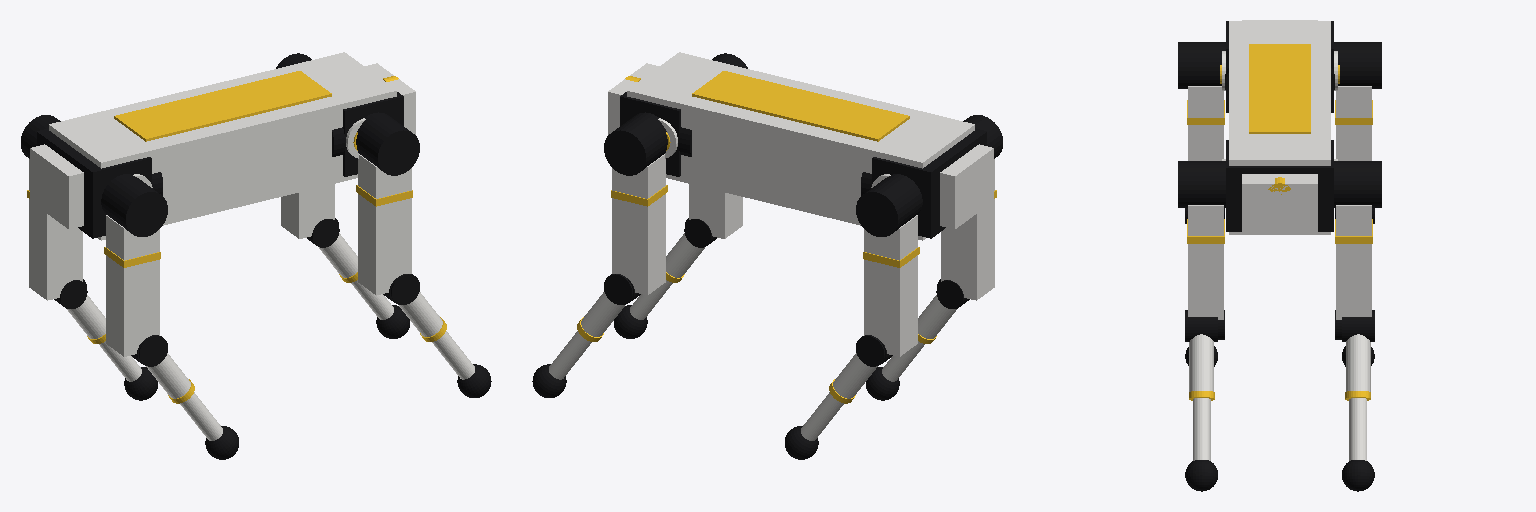
robot.urdf — omniquad_ghost:
<?xml version='1.0' encoding='utf-8'?>
<robot name="omniquad_ghost">
    <link name="body">
		<visual>
			<origin xyz="0.0064 0 -0.0039" rpy="0 0 0" />
			<geometry>
				<box size="0.700 0.215 0.176" />
			</geometry>
			<material name="omnisim_shell">
				<color rgba="0.898 0.894 0.882 1.0" />
				<omnisim roughness="0.42" metalness="0.0" />
			</material>
		</visual>
		<visual>
			<origin xyz="0.2980 0 -0.0039" rpy="0 0 0" />
			<geometry>
				<box size="0.140 0.230 0.150" />
			</geometry>
			<material name="omnisim_joint">
				<color rgba="0.129 0.129 0.137 1.0" />
				<omnisim roughness="0.28" metalness="0.85" />
			</material>
		</visual>
		<visual>
			<origin xyz="-0.2980 0 -0.0039" rpy="0 0 0" />
			<geometry>
				<box size="0.140 0.230 0.150" />
			</geometry>
			<material name="omnisim_joint">
				<color rgba="0.129 0.129 0.137 1.0" />
				<omnisim roughness="0.28" metalness="0.85" />
			</material>
		</visual>
		<visual>
			<origin xyz="0.3720 0 -0.0039" rpy="0 0 0" />
			<geometry>
				<box size="0.090 0.160 0.120" />
			</geometry>
			<material name="omnisim_shell">
				<color rgba="0.898 0.894 0.882 1.0" />
				<omnisim roughness="0.42" metalness="0.0" />
			</material>
		</visual>
		<visual>
			<origin xyz="-0.3590 0 -0.0039" rpy="0 0 0" />
			<geometry>
				<box size="0.090 0.160 0.120" />
			</geometry>
			<material name="omnisim_shell">
				<color rgba="0.898 0.894 0.882 1.0" />
				<omnisim roughness="0.42" metalness="0.0" />
			</material>
		</visual>
		<visual>
			<origin xyz="0.0064 0 0.0830" rpy="0 0 0" />
			<geometry>
				<box size="0.440 0.130 0.014" />
			</geometry>
			<material name="omnisim_accent">
				<color rgba="0.965 0.780 0.204 1.0" />
				<omnisim roughness="0.35" metalness="0.2" />
			</material>
		</visual>
		<visual>
			<origin xyz="0.4020 0 0.0300" rpy="0 1.5708 0" />
			<geometry>
				<cylinder radius="0.028" length="0.03" />
			</geometry>
			<material name="omnisim_accent">
				<color rgba="0.965 0.780 0.204 1.0" />
				<omnisim roughness="0.35" metalness="0.2" />
			</material>
		</visual>
	</link>

    <link name="base_link" />
    <joint name="base_link_joint" type="fixed">
        <origin xyz="0 0 0" rpy="0 0 0" />
        <parent link="base_link" />
        <child link="body" />
    </joint>

    <link name="front_rail" />
    <joint name="front_rail_joint" type="fixed">
        <origin xyz="0.223 0 0.0805" rpy="0 0 0" />
        <parent link="body" />
        <child link="front_rail" />
    </joint>

    <link name="real_front_rail" />
    <joint name="real_front_rail_joint" type="fixed">
        <origin xyz="0.2075 0 0.0805" rpy="0 0 0" />
        <parent link="body" />
        <child link="real_front_rail" />
    </joint>

    <link name="rear_rail" />
    <joint name="rear_rail_joint" type="fixed">
        <origin xyz="-0.223 0 0.0805" rpy="0 0 0" />
        <parent link="body" />
        <child link="rear_rail" />
    </joint>

    <link name="real_rear_rail" />
    <joint name="real_rear_rail_joint" type="fixed">
        <origin xyz="-0.415 0 0" rpy="0 0 0" />
        <parent link="real_front_rail" />
        <child link="real_rear_rail" />
    </joint>

    <link name="front_left_hip">
		<visual>
			<origin xyz="-0.0242 +0.0060 0.0000" rpy="0 1.5708 0" />
			<geometry>
				<cylinder radius="0.056" length="0.144" />
			</geometry>
			<material name="omnisim_joint">
				<color rgba="0.129 0.129 0.137 1.0" />
				<omnisim roughness="0.28" metalness="0.85" />
			</material>
		</visual>
		<visual>
			<origin xyz="-0.0242 +0.0400 0.0000" rpy="1.5708 0 0" />
			<geometry>
				<cylinder radius="0.044" length="0.056" />
			</geometry>
			<material name="omnisim_shell">
				<color rgba="0.898 0.894 0.882 1.0" />
				<omnisim roughness="0.42" metalness="0.0" />
			</material>
		</visual>
		<visual>
			<origin xyz="-0.0242 +0.0660 0.0000" rpy="1.5708 0 0" />
			<geometry>
				<cylinder radius="0.03" length="0.012" />
			</geometry>
			<material name="omnisim_accent">
				<color rgba="0.965 0.780 0.204 1.0" />
				<omnisim roughness="0.35" metalness="0.2" />
			</material>
		</visual>
	</link>
    <joint name="front_left_hip_x" type="revolute">
        <origin xyz="0.29785 0.05500 0.00000" rpy="0 0 0" />
        <axis xyz="1 0 0" />
        <parent link="body" />
        <child link="front_left_hip" />
        <dynamics damping="0.05" />
        
        <limit effort="80" velocity="20" lower="-1.50" upper="1.50" />
        <rest>0.30</rest>
    </joint>
    <link name="front_left_upper_leg">
		<visual>
			<origin xyz="0.0000 -0.0084 0.0000" rpy="1.5708 0 0" />
			<geometry>
				<cylinder radius="0.05" length="0.116" />
			</geometry>
			<material name="omnisim_joint">
				<color rgba="0.129 0.129 0.137 1.0" />
				<omnisim roughness="0.28" metalness="0.85" />
			</material>
		</visual>
		<visual>
			<origin xyz="0.0000 -0.0084 -0.1750" rpy="0 0 0" />
			<geometry>
				<box size="0.084 0.076 0.290" />
			</geometry>
			<material name="omnisim_shell">
				<color rgba="0.898 0.894 0.882 1.0" />
				<omnisim roughness="0.42" metalness="0.0" />
			</material>
		</visual>
		<visual>
			<origin xyz="0.0000 -0.0084 -0.1100" rpy="0 0 0" />
			<geometry>
				<box size="0.088 0.080 0.016" />
			</geometry>
			<material name="omnisim_accent">
				<color rgba="0.965 0.780 0.204 1.0" />
				<omnisim roughness="0.35" metalness="0.2" />
			</material>
		</visual>
		<visual>
			<origin xyz="0.0200 -0.0084 -0.3205" rpy="1.5708 0 0" />
			<geometry>
				<cylinder radius="0.032" length="0.08" />
			</geometry>
			<material name="omnisim_joint">
				<color rgba="0.129 0.129 0.137 1.0" />
				<omnisim roughness="0.28" metalness="0.85" />
			</material>
		</visual>
	</link>
    <joint name="front_left_hip_y" type="revolute">
        <origin xyz="0.0 0.110945 0.0" rpy="0 0 0" />
        <axis xyz="0 1 0" />
        <parent link="front_left_hip" />
        <child link="front_left_upper_leg" />
        <dynamics damping="0.05" />
        
        <limit effort="80" velocity="20" lower="-0.50" upper="3.20" />
        
        <rest>0.30</rest>
    </joint>
    <link name="front_left_lower_leg">
		<visual>
			<origin xyz="0 0 0" rpy="1.5708 0 0" />
			<geometry>
				<cylinder radius="0.034" length="0.07" />
			</geometry>
			<material name="omnisim_joint">
				<color rgba="0.129 0.129 0.137 1.0" />
				<omnisim roughness="0.28" metalness="0.85" />
			</material>
		</visual>
		<visual>
			<origin xyz="0 0 -0.0750" rpy="0 0 0" />
			<geometry>
				<cylinder radius="0.026" length="0.15" />
			</geometry>
			<material name="omnisim_shell">
				<color rgba="0.898 0.894 0.882 1.0" />
				<omnisim roughness="0.42" metalness="0.0" />
			</material>
		</visual>
		<visual>
			<origin xyz="0 0 -0.1500" rpy="0 0 0" />
			<geometry>
				<cylinder radius="0.028" length="0.014" />
			</geometry>
			<material name="omnisim_accent">
				<color rgba="0.965 0.780 0.204 1.0" />
				<omnisim roughness="0.35" metalness="0.2" />
			</material>
		</visual>
		<visual>
			<origin xyz="0 0 -0.2350" rpy="0 0 0" />
			<geometry>
				<cylinder radius="0.019" length="0.17" />
			</geometry>
			<material name="omnisim_shell">
				<color rgba="0.898 0.894 0.882 1.0" />
				<omnisim roughness="0.42" metalness="0.0" />
			</material>
		</visual>
		<visual>
			<origin xyz="0 0 -0.3200" rpy="0 0 0" />
			<geometry>
				<sphere radius="0.035" />
			</geometry>
			<material name="omnisim_joint">
				<color rgba="0.129 0.129 0.137 1.0" />
				<omnisim roughness="0.28" metalness="0.85" />
			</material>
		</visual>
	</link>
    <joint name="front_left_knee" type="revolute">
        <origin xyz="0.025 0.000 -0.3205" rpy="0 0 0" />
        <axis xyz="0 1 0" />
        <parent link="front_left_upper_leg" />
        <child link="front_left_lower_leg" />
        <dynamics damping="0.05" />
        <limit effort="80" velocity="20" lower="-1.20" upper="-0.01" />
    </joint>
    <link name="front_right_hip">
		<visual>
			<origin xyz="-0.0242 -0.0060 0.0000" rpy="0 1.5708 0" />
			<geometry>
				<cylinder radius="0.056" length="0.144" />
			</geometry>
			<material name="omnisim_joint">
				<color rgba="0.129 0.129 0.137 1.0" />
				<omnisim roughness="0.28" metalness="0.85" />
			</material>
		</visual>
		<visual>
			<origin xyz="-0.0242 -0.0400 0.0000" rpy="1.5708 0 0" />
			<geometry>
				<cylinder radius="0.044" length="0.056" />
			</geometry>
			<material name="omnisim_shell">
				<color rgba="0.898 0.894 0.882 1.0" />
				<omnisim roughness="0.42" metalness="0.0" />
			</material>
		</visual>
		<visual>
			<origin xyz="-0.0242 -0.0660 0.0000" rpy="1.5708 0 0" />
			<geometry>
				<cylinder radius="0.03" length="0.012" />
			</geometry>
			<material name="omnisim_accent">
				<color rgba="0.965 0.780 0.204 1.0" />
				<omnisim roughness="0.35" metalness="0.2" />
			</material>
		</visual>
	</link>
    <joint name="front_right_hip_x" type="revolute">
        <origin xyz="0.29785 -0.05500 0.00000" rpy="0 0 0" />
        <axis xyz="1 0 0" />
        <parent link="body" />
        <child link="front_right_hip" />
        <dynamics damping="0.05" />
        
        <limit effort="80" velocity="20" lower="-1.50" upper="1.50" />
        <rest>-0.30</rest>
    </joint>
    <link name="front_right_upper_leg">
		<visual>
			<origin xyz="0.0000 +0.0084 0.0000" rpy="1.5708 0 0" />
			<geometry>
				<cylinder radius="0.05" length="0.116" />
			</geometry>
			<material name="omnisim_joint">
				<color rgba="0.129 0.129 0.137 1.0" />
				<omnisim roughness="0.28" metalness="0.85" />
			</material>
		</visual>
		<visual>
			<origin xyz="0.0000 +0.0084 -0.1750" rpy="0 0 0" />
			<geometry>
				<box size="0.084 0.076 0.290" />
			</geometry>
			<material name="omnisim_shell">
				<color rgba="0.898 0.894 0.882 1.0" />
				<omnisim roughness="0.42" metalness="0.0" />
			</material>
		</visual>
		<visual>
			<origin xyz="0.0000 +0.0084 -0.1100" rpy="0 0 0" />
			<geometry>
				<box size="0.088 0.080 0.016" />
			</geometry>
			<material name="omnisim_accent">
				<color rgba="0.965 0.780 0.204 1.0" />
				<omnisim roughness="0.35" metalness="0.2" />
			</material>
		</visual>
		<visual>
			<origin xyz="0.0200 +0.0084 -0.3205" rpy="1.5708 0 0" />
			<geometry>
				<cylinder radius="0.032" length="0.08" />
			</geometry>
			<material name="omnisim_joint">
				<color rgba="0.129 0.129 0.137 1.0" />
				<omnisim roughness="0.28" metalness="0.85" />
			</material>
		</visual>
	</link>
    <joint name="front_right_hip_y" type="revolute">
        <origin xyz="0.0 -0.110945 0.0" rpy="0 0 0" />
        <axis xyz="0 1 0" />
        <parent link="front_right_hip" />
        <child link="front_right_upper_leg" />
        <dynamics damping="0.05" />
        
        <limit effort="80" velocity="20" lower="-0.50" upper="3.20" />
        <rest>0.30</rest>
    </joint>
    <link name="front_right_lower_leg">
		<visual>
			<origin xyz="0 0 0" rpy="1.5708 0 0" />
			<geometry>
				<cylinder radius="0.034" length="0.07" />
			</geometry>
			<material name="omnisim_joint">
				<color rgba="0.129 0.129 0.137 1.0" />
				<omnisim roughness="0.28" metalness="0.85" />
			</material>
		</visual>
		<visual>
			<origin xyz="0 0 -0.0750" rpy="0 0 0" />
			<geometry>
				<cylinder radius="0.026" length="0.15" />
			</geometry>
			<material name="omnisim_shell">
				<color rgba="0.898 0.894 0.882 1.0" />
				<omnisim roughness="0.42" metalness="0.0" />
			</material>
		</visual>
		<visual>
			<origin xyz="0 0 -0.1500" rpy="0 0 0" />
			<geometry>
				<cylinder radius="0.028" length="0.014" />
			</geometry>
			<material name="omnisim_accent">
				<color rgba="0.965 0.780 0.204 1.0" />
				<omnisim roughness="0.35" metalness="0.2" />
			</material>
		</visual>
		<visual>
			<origin xyz="0 0 -0.2350" rpy="0 0 0" />
			<geometry>
				<cylinder radius="0.019" length="0.17" />
			</geometry>
			<material name="omnisim_shell">
				<color rgba="0.898 0.894 0.882 1.0" />
				<omnisim roughness="0.42" metalness="0.0" />
			</material>
		</visual>
		<visual>
			<origin xyz="0 0 -0.3200" rpy="0 0 0" />
			<geometry>
				<sphere radius="0.035" />
			</geometry>
			<material name="omnisim_joint">
				<color rgba="0.129 0.129 0.137 1.0" />
				<omnisim roughness="0.28" metalness="0.85" />
			</material>
		</visual>
	</link>
    <joint name="front_right_knee" type="revolute">
        <origin xyz="0.025 0.000 -0.3205" rpy="0 0 0" />
        <axis xyz="0 1 0" />
        <parent link="front_right_upper_leg" />
        <child link="front_right_lower_leg" />
        <dynamics damping="0.05" />
        <limit effort="80" velocity="20" lower="-1.20" upper="-0.01" />
    </joint>
    <link name="rear_left_hip">
		<visual>
			<origin xyz="+0.0240 +0.0060 0.0000" rpy="0 1.5708 0" />
			<geometry>
				<cylinder radius="0.056" length="0.144" />
			</geometry>
			<material name="omnisim_joint">
				<color rgba="0.129 0.129 0.137 1.0" />
				<omnisim roughness="0.28" metalness="0.85" />
			</material>
		</visual>
		<visual>
			<origin xyz="+0.0240 +0.0400 0.0000" rpy="1.5708 0 0" />
			<geometry>
				<cylinder radius="0.044" length="0.056" />
			</geometry>
			<material name="omnisim_shell">
				<color rgba="0.898 0.894 0.882 1.0" />
				<omnisim roughness="0.42" metalness="0.0" />
			</material>
		</visual>
		<visual>
			<origin xyz="+0.0240 +0.0660 0.0000" rpy="1.5708 0 0" />
			<geometry>
				<cylinder radius="0.03" length="0.012" />
			</geometry>
			<material name="omnisim_accent">
				<color rgba="0.965 0.780 0.204 1.0" />
				<omnisim roughness="0.35" metalness="0.2" />
			</material>
		</visual>
	</link>
    <joint name="rear_left_hip_x" type="revolute">
        <origin xyz="-0.29785 0.05500 0.00000" rpy="0 0 0" />
        <axis xyz="1 0 0" />
        <parent link="body" />
        <child link="rear_left_hip" />
        <dynamics damping="0.05" />
        
        <limit effort="80" velocity="20" lower="-1.50" upper="1.50" />
        <rest>0.30</rest>
    </joint>
    <link name="rear_left_upper_leg">
		<visual>
			<origin xyz="0.0000 -0.0084 0.0000" rpy="1.5708 0 0" />
			<geometry>
				<cylinder radius="0.05" length="0.116" />
			</geometry>
			<material name="omnisim_joint">
				<color rgba="0.129 0.129 0.137 1.0" />
				<omnisim roughness="0.28" metalness="0.85" />
			</material>
		</visual>
		<visual>
			<origin xyz="0.0000 -0.0084 -0.1750" rpy="0 0 0" />
			<geometry>
				<box size="0.084 0.076 0.290" />
			</geometry>
			<material name="omnisim_shell">
				<color rgba="0.898 0.894 0.882 1.0" />
				<omnisim roughness="0.42" metalness="0.0" />
			</material>
		</visual>
		<visual>
			<origin xyz="0.0000 -0.0084 -0.1100" rpy="0 0 0" />
			<geometry>
				<box size="0.088 0.080 0.016" />
			</geometry>
			<material name="omnisim_accent">
				<color rgba="0.965 0.780 0.204 1.0" />
				<omnisim roughness="0.35" metalness="0.2" />
			</material>
		</visual>
		<visual>
			<origin xyz="0.0200 -0.0084 -0.3205" rpy="1.5708 0 0" />
			<geometry>
				<cylinder radius="0.032" length="0.08" />
			</geometry>
			<material name="omnisim_joint">
				<color rgba="0.129 0.129 0.137 1.0" />
				<omnisim roughness="0.28" metalness="0.85" />
			</material>
		</visual>
	</link>
    <joint name="rear_left_hip_y" type="revolute">
        <origin xyz="0.0 0.110945 0.0" rpy="0 0 0" />
        <axis xyz="0 1 0" />
        <parent link="rear_left_hip" />
        <child link="rear_left_upper_leg" />
        <dynamics damping="0.05" />
        
        <limit effort="80" velocity="20" lower="-0.50" upper="3.20" />
        <rest>0.30</rest>
    </joint>
    <link name="rear_left_lower_leg">
		<visual>
			<origin xyz="0 0 0" rpy="1.5708 0 0" />
			<geometry>
				<cylinder radius="0.034" length="0.07" />
			</geometry>
			<material name="omnisim_joint">
				<color rgba="0.129 0.129 0.137 1.0" />
				<omnisim roughness="0.28" metalness="0.85" />
			</material>
		</visual>
		<visual>
			<origin xyz="0 0 -0.0750" rpy="0 0 0" />
			<geometry>
				<cylinder radius="0.026" length="0.15" />
			</geometry>
			<material name="omnisim_shell">
				<color rgba="0.898 0.894 0.882 1.0" />
				<omnisim roughness="0.42" metalness="0.0" />
			</material>
		</visual>
		<visual>
			<origin xyz="0 0 -0.1500" rpy="0 0 0" />
			<geometry>
				<cylinder radius="0.028" length="0.014" />
			</geometry>
			<material name="omnisim_accent">
				<color rgba="0.965 0.780 0.204 1.0" />
				<omnisim roughness="0.35" metalness="0.2" />
			</material>
		</visual>
		<visual>
			<origin xyz="0 0 -0.2350" rpy="0 0 0" />
			<geometry>
				<cylinder radius="0.019" length="0.17" />
			</geometry>
			<material name="omnisim_shell">
				<color rgba="0.898 0.894 0.882 1.0" />
				<omnisim roughness="0.42" metalness="0.0" />
			</material>
		</visual>
		<visual>
			<origin xyz="0 0 -0.3200" rpy="0 0 0" />
			<geometry>
				<sphere radius="0.035" />
			</geometry>
			<material name="omnisim_joint">
				<color rgba="0.129 0.129 0.137 1.0" />
				<omnisim roughness="0.28" metalness="0.85" />
			</material>
		</visual>
	</link>
    <joint name="rear_left_knee" type="revolute">
        <origin xyz="0.025 0.000 -0.3205" rpy="0 0 0" />
        <axis xyz="0 1 0" />
        <parent link="rear_left_upper_leg" />
        <child link="rear_left_lower_leg" />
        <dynamics damping="0.05" />
        <limit effort="80" velocity="20" lower="-1.20" upper="-0.01" />
    </joint>
    <link name="rear_right_hip">
		<visual>
			<origin xyz="+0.0240 -0.0060 0.0000" rpy="0 1.5708 0" />
			<geometry>
				<cylinder radius="0.056" length="0.144" />
			</geometry>
			<material name="omnisim_joint">
				<color rgba="0.129 0.129 0.137 1.0" />
				<omnisim roughness="0.28" metalness="0.85" />
			</material>
		</visual>
		<visual>
			<origin xyz="+0.0240 -0.0400 0.0000" rpy="1.5708 0 0" />
			<geometry>
				<cylinder radius="0.044" length="0.056" />
			</geometry>
			<material name="omnisim_shell">
				<color rgba="0.898 0.894 0.882 1.0" />
				<omnisim roughness="0.42" metalness="0.0" />
			</material>
		</visual>
		<visual>
			<origin xyz="+0.0240 -0.0660 0.0000" rpy="1.5708 0 0" />
			<geometry>
				<cylinder radius="0.03" length="0.012" />
			</geometry>
			<material name="omnisim_accent">
				<color rgba="0.965 0.780 0.204 1.0" />
				<omnisim roughness="0.35" metalness="0.2" />
			</material>
		</visual>
	</link>
    <joint name="rear_right_hip_x" type="revolute">
        <origin xyz="-0.29785 -0.05500 0.00000" rpy="0 0 0" />
        <axis xyz="1 0 0" />
        <parent link="body" />
        <child link="rear_right_hip" />
        <dynamics damping="0.05" />
        
        <limit effort="80" velocity="20" lower="-1.50" upper="1.50" />
        <rest>-0.30</rest>
    </joint>
    <link name="rear_right_upper_leg">
		<visual>
			<origin xyz="0.0000 +0.0084 0.0000" rpy="1.5708 0 0" />
			<geometry>
				<cylinder radius="0.05" length="0.116" />
			</geometry>
			<material name="omnisim_joint">
				<color rgba="0.129 0.129 0.137 1.0" />
				<omnisim roughness="0.28" metalness="0.85" />
			</material>
		</visual>
		<visual>
			<origin xyz="0.0000 +0.0084 -0.1750" rpy="0 0 0" />
			<geometry>
				<box size="0.084 0.076 0.290" />
			</geometry>
			<material name="omnisim_shell">
				<color rgba="0.898 0.894 0.882 1.0" />
				<omnisim roughness="0.42" metalness="0.0" />
			</material>
		</visual>
		<visual>
			<origin xyz="0.0000 +0.0084 -0.1100" rpy="0 0 0" />
			<geometry>
				<box size="0.088 0.080 0.016" />
			</geometry>
			<material name="omnisim_accent">
				<color rgba="0.965 0.780 0.204 1.0" />
				<omnisim roughness="0.35" metalness="0.2" />
			</material>
		</visual>
		<visual>
			<origin xyz="0.0200 +0.0084 -0.3205" rpy="1.5708 0 0" />
			<geometry>
				<cylinder radius="0.032" length="0.08" />
			</geometry>
			<material name="omnisim_joint">
				<color rgba="0.129 0.129 0.137 1.0" />
				<omnisim roughness="0.28" metalness="0.85" />
			</material>
		</visual>
	</link>
    <joint name="rear_right_hip_y" type="revolute">
        <origin xyz="0.0 -0.110945 0.0" rpy="0 0 0" />
        <axis xyz="0 1 0" />
        <parent link="rear_right_hip" />
        <child link="rear_right_upper_leg" />
        <dynamics damping="0.05" />
        
        <limit effort="80" velocity="20" lower="-0.50" upper="3.20" />
        <rest>0.30</rest>
    </joint>
    <link name="rear_right_lower_leg">
		<visual>
			<origin xyz="0 0 0" rpy="1.5708 0 0" />
			<geometry>
				<cylinder radius="0.034" length="0.07" />
			</geometry>
			<material name="omnisim_joint">
				<color rgba="0.129 0.129 0.137 1.0" />
				<omnisim roughness="0.28" metalness="0.85" />
			</material>
		</visual>
		<visual>
			<origin xyz="0 0 -0.0750" rpy="0 0 0" />
			<geometry>
				<cylinder radius="0.026" length="0.15" />
			</geometry>
			<material name="omnisim_shell">
				<color rgba="0.898 0.894 0.882 1.0" />
				<omnisim roughness="0.42" metalness="0.0" />
			</material>
		</visual>
		<visual>
			<origin xyz="0 0 -0.1500" rpy="0 0 0" />
			<geometry>
				<cylinder radius="0.028" length="0.014" />
			</geometry>
			<material name="omnisim_accent">
				<color rgba="0.965 0.780 0.204 1.0" />
				<omnisim roughness="0.35" metalness="0.2" />
			</material>
		</visual>
		<visual>
			<origin xyz="0 0 -0.2350" rpy="0 0 0" />
			<geometry>
				<cylinder radius="0.019" length="0.17" />
			</geometry>
			<material name="omnisim_shell">
				<color rgba="0.898 0.894 0.882 1.0" />
				<omnisim roughness="0.42" metalness="0.0" />
			</material>
		</visual>
		<visual>
			<origin xyz="0 0 -0.3200" rpy="0 0 0" />
			<geometry>
				<sphere radius="0.035" />
			</geometry>
			<material name="omnisim_joint">
				<color rgba="0.129 0.129 0.137 1.0" />
				<omnisim roughness="0.28" metalness="0.85" />
			</material>
		</visual>
	</link>
    <joint name="rear_right_knee" type="revolute">
        <origin xyz="0.025 0.000 -0.3205" rpy="0 0 0" />
        <axis xyz="0 1 0" />
        <parent link="rear_right_upper_leg" />
        <child link="rear_right_lower_leg" />
        <dynamics damping="0.05" />
        <limit effort="80" velocity="20" lower="-1.20" upper="-0.01" />
    </joint>

</robot>

--- What the picture shows (computed from the rendered views, not written in the file) ---
The picture shows the robot from 3 angles, left to right: view 1: azimuth 30°, elevation 25°; view 2: azimuth 150°, elevation 25°; view 3: azimuth 270°, elevation 25°; orthographic projection.
Model omniquad_ghost with 18 links and 17 joints (12 revolute, 5 fixed), rooted at base_link, posed joints at zero except 4 at the middle of their limits (front_left_knee = -0.605, front_right_knee = -0.605, rear_left_knee = -0.605, rear_right_knee = -0.605).
Links seen in each view (by area): view 1: body, rear_right_upper_leg, front_right_upper_leg, rear_left_upper_leg, rear_right_lower_leg, front_right_lower_leg, front_left_upper_leg, front_left_lower_leg, rear_left_lower_leg, front_right_hip; view 2: body, rear_left_upper_leg, front_left_upper_leg, rear_right_upper_leg, rear_left_lower_leg, front_left_lower_leg, front_right_upper_leg, front_right_lower_leg, rear_right_lower_leg, front_left_hip; view 3: body, front_left_upper_leg, front_right_upper_leg, rear_left_upper_leg, rear_right_upper_leg, front_left_lower_leg, front_right_lower_leg.
Link boxes in pixels (box(x1,y1,x2,y2)): body: box(30, 52, 415, 240); rear_right_upper_leg: box(101, 174, 167, 364); front_right_upper_leg: box(356, 112, 419, 303); rear_left_upper_leg: box(21, 115, 87, 308); rear_right_lower_leg: box(139, 335, 238, 459); front_right_lower_leg: box(391, 274, 491, 397); front_left_upper_leg: box(276, 53, 339, 247); front_left_lower_leg: box(319, 218, 409, 338); rear_left_lower_leg: box(67, 279, 157, 400); front_right_hip: box(332, 118, 365, 158); body: box(608, 52, 993, 240); rear_left_upper_leg: box(856, 174, 922, 364); front_left_upper_leg: box(604, 112, 667, 303); rear_right_upper_leg: box(936, 115, 1002, 308); rear_left_lower_leg: box(785, 335, 884, 459); front_left_lower_leg: box(532, 274, 632, 397); front_right_upper_leg: box(684, 53, 747, 247); front_right_lower_leg: box(614, 218, 704, 338); rear_right_lower_leg: box(866, 279, 956, 400); front_left_hip: box(658, 118, 691, 158); body: box(1226, 20, 1333, 234); front_left_upper_leg: box(1334, 161, 1381, 339); front_right_upper_leg: box(1178, 161, 1225, 339); rear_left_upper_leg: box(1334, 42, 1381, 218); rear_right_upper_leg: box(1178, 42, 1225, 218); front_left_lower_leg: box(1342, 310, 1374, 491); front_right_lower_leg: box(1185, 310, 1217, 491).
Bounding box of the posed robot: 0.9438 × 0.4311 × 0.7087 m (x, y, z).
Geometry: primitives only (box / cylinder / sphere), no mesh files.
